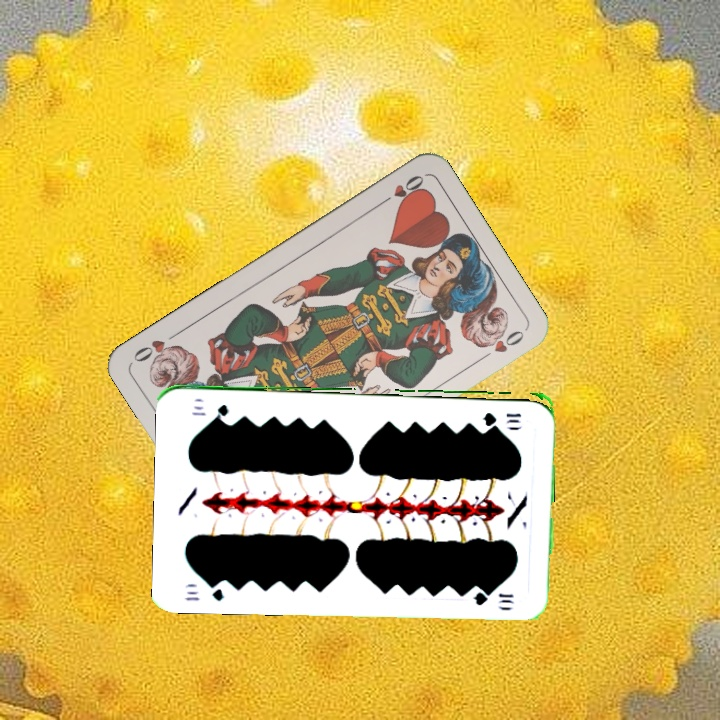G10: (181, 578, 226, 604), (479, 408, 524, 426)
HO: (374, 170, 427, 209)
